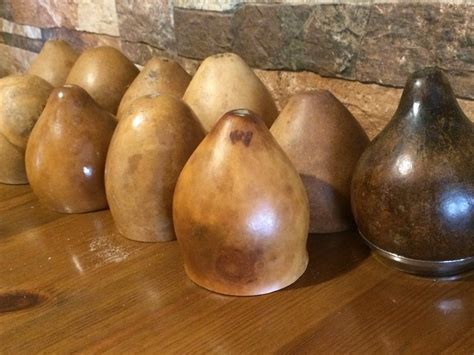cuero: (2, 37, 474, 293)
